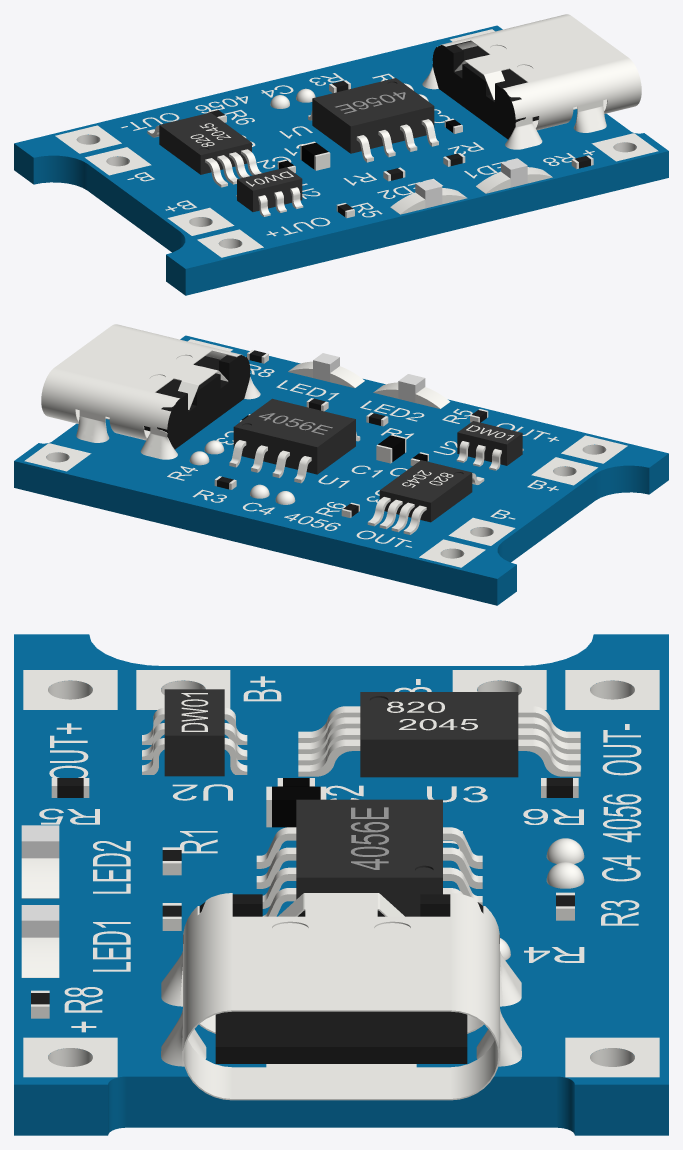
Rendered from TP4056_Charging_Module_Type_C v12.gltf.
3 views of the same model, one above another, from view 1: azimuth 30°, elevation 25°; view 2: azimuth 150°, elevation 25°; view 3: azimuth 270°, elevation 25° (orthographic). The views are drawn at different scales.
Parts seen in each view (by area): view 1: board, USB_Type_C_Connector, SOP-8_4056E, 8205A_2045, DW01-P, board002, board001, board004, board003, board005, soldering001, soldering (+4 smaller); view 2: board, USB_Type_C_Connector, SOP-8_4056E, 8205A_2045, DW01-P, board004, board002, board006, board005, board003, soldering003, soldering002 (+4 smaller); view 3: board, USB_Type_C_Connector, SOP-8_4056E, 8205A_2045, DW01-P, board001, board006, board003, board005, board002, board004, LED2 (1)002 (+18 smaller).
Boxes of the visible parts, box(x1,y1,x2,y2) form: board: box(14, 25, 668, 295); USB_Type_C_Connector: box(432, 14, 641, 139); SOP-8_4056E: box(312, 78, 434, 153); 8205A_2045: box(159, 112, 251, 174); DW01-P: box(237, 167, 302, 211); board002: box(167, 207, 234, 235); board001: box(591, 133, 658, 161); board004: box(85, 147, 151, 175); board003: box(55, 125, 121, 153); board005: box(197, 229, 263, 257); soldering001: box(505, 123, 542, 149); soldering: box(573, 106, 606, 132); board: box(14, 335, 668, 605); USB_Type_C_Connector: box(41, 324, 250, 449); SOP-8_4056E: box(233, 398, 355, 474); 8205A_2045: box(379, 460, 472, 522); DW01-P: box(457, 421, 522, 465); board004: box(448, 517, 515, 545); board002: box(531, 457, 597, 485); board006: box(24, 443, 91, 471); board005: box(561, 435, 627, 463); board003: box(419, 539, 485, 567); soldering003: box(140, 433, 177, 459); soldering002: box(76, 416, 109, 442); board: box(14, 634, 668, 1135); USB_Type_C_Connector: box(183, 893, 499, 1100); SOP-8_4056E: box(296, 799, 442, 916); 8205A_2045: box(360, 692, 518, 777); DW01-P: box(164, 689, 224, 776); board001: box(23, 1037, 117, 1077); board006: box(565, 1037, 659, 1077); board003: box(565, 670, 659, 709); board005: box(23, 670, 117, 709); board002: box(136, 670, 230, 709); board004: box(452, 670, 546, 709); LED2 (1)002: box(21, 858, 59, 898).
Size of the model in its own units: 0.0293 by 0.00414 by 0.0174.
